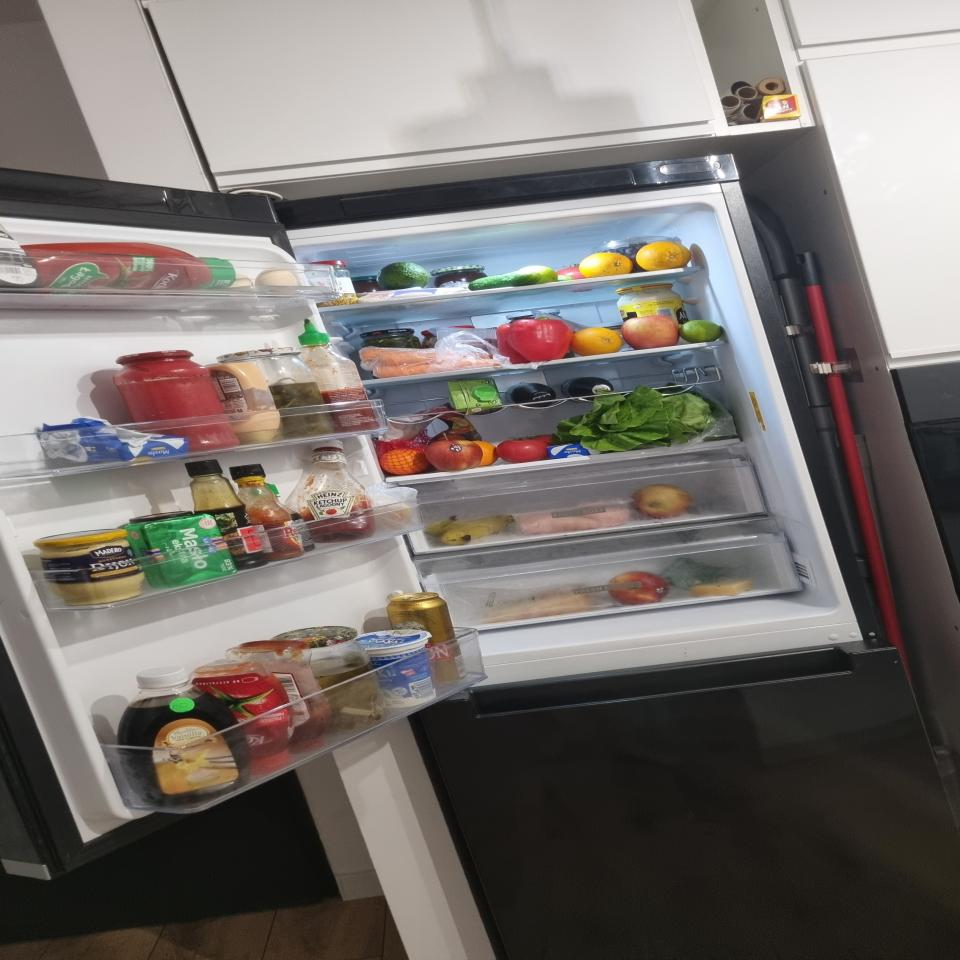Aguacate: (377, 262, 427, 290)
Carne pollo: (510, 494, 633, 534)
Huevos: (254, 269, 297, 294)
Lechuga/Endivia: (558, 392, 710, 452)
Mantequilla: (123, 512, 236, 586), (41, 419, 186, 463), (549, 442, 604, 458)
Manzana: (608, 571, 668, 606), (633, 484, 691, 519), (622, 315, 679, 349), (426, 441, 483, 472)
Pepino: (467, 270, 542, 292)
Plátano: (426, 514, 514, 544)
Queso: (486, 588, 590, 623), (691, 580, 754, 596)
Tomate: (494, 438, 548, 464)
Yogur: (357, 629, 439, 708)
Zanahoria: (357, 344, 503, 377)
